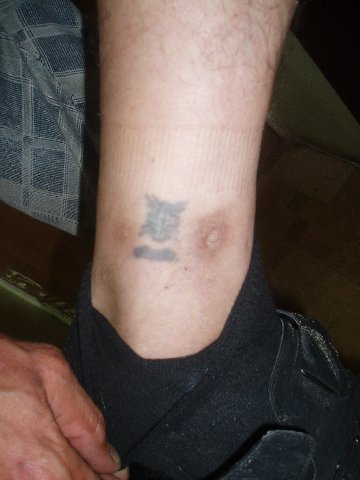tatu9_krest: (146, 193, 182, 246)
